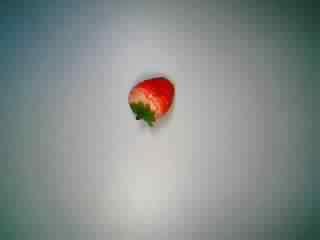strawberry: (115, 73, 186, 133)
